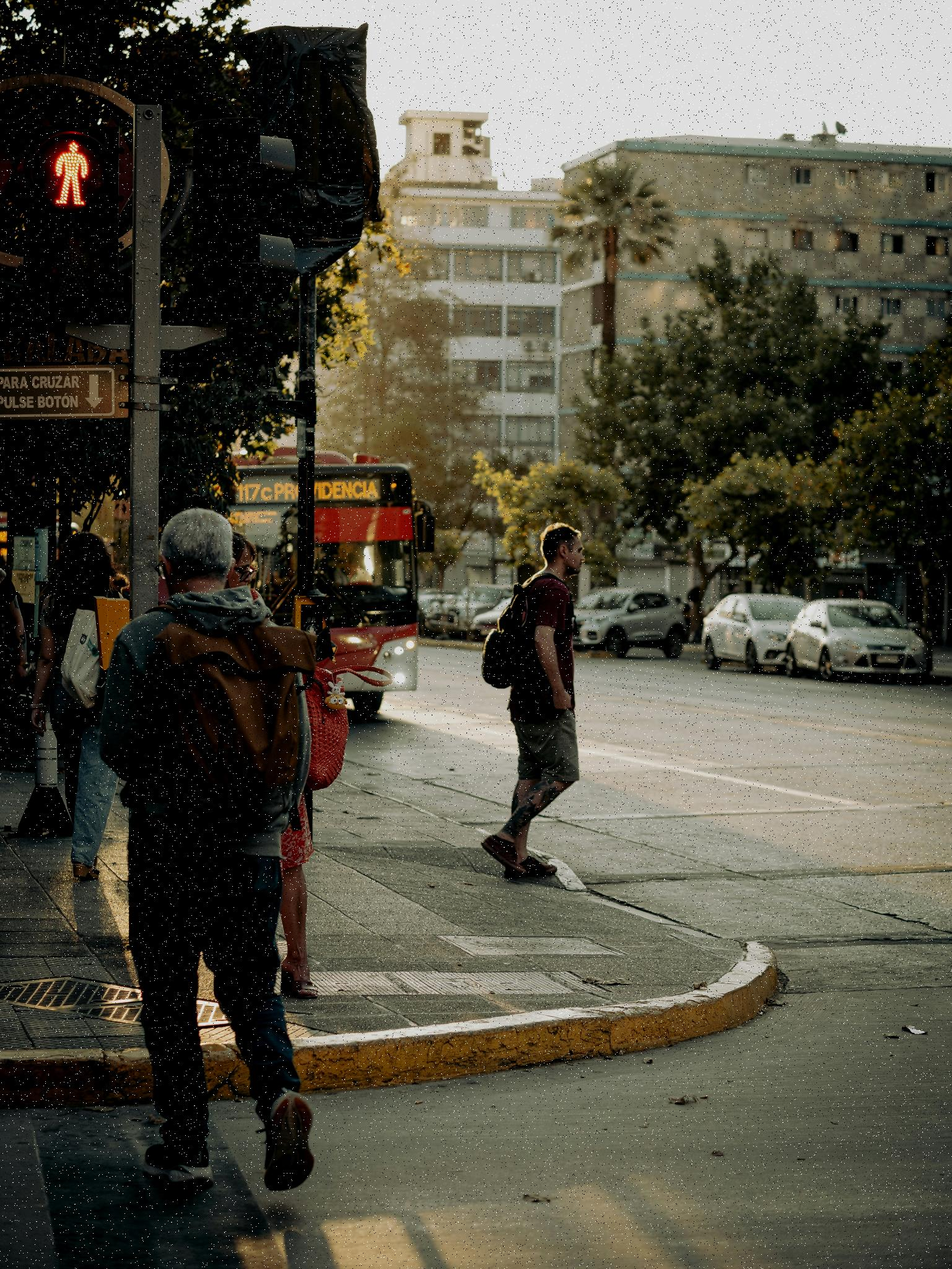car: (103, 507, 329, 1197), (789, 595, 935, 679), (703, 590, 808, 671), (572, 586, 690, 658), (424, 588, 514, 644), (420, 585, 478, 638)
pedestrian: (489, 534, 590, 888), (29, 525, 119, 874), (229, 537, 261, 595)
